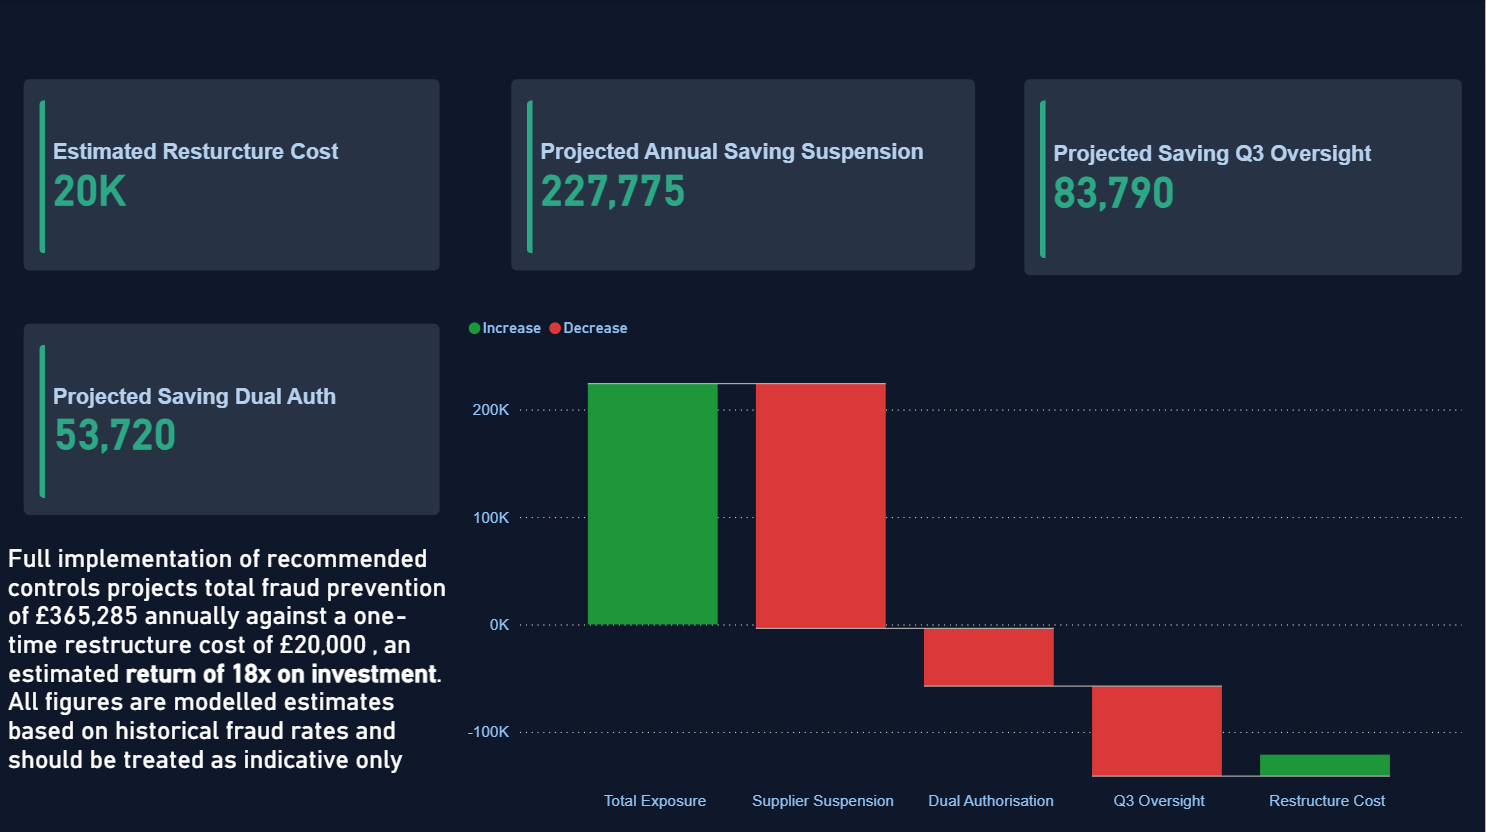

The page's visual inventory and layout, read from the dashboard file:
{"tool":"powerbi","page":{"name":"Recomendations","canvas":[1280,720],"ordinal":3},"visuals":[{"type":"cardVisual","title":"Total Capital At Risk","fields":{"Data":["employee_limits.Estimated resturcture Cost"]},"box":[1.5,48.5,398.2,204.4],"z":0},{"type":"cardVisual","title":"Total Capital At Risk","fields":{"Data":["employee_limits.Projected Annual Saving Suspension"]},"box":[420.9,48.5,439.1,204.4],"z":1000},{"type":"cardVisual","title":"Total Capital At Risk","fields":{"Data":["employee_limits.Projected Saving Dual Auth"]},"box":[1.5,258.9,398.2,204.4],"z":2000},{"type":"cardVisual","title":"Total Capital At Risk","fields":{"Data":["employee_limits.Projected Saving Q3 Oversight"]},"box":[863.1,48.5,416.4,209],"z":3000},{"type":"waterfallChart","fields":{"Category":["Waterfall Data.Step"],"Y":["Sum(Waterfall Data.Amount)"]},"box":[398.2,262,866.1,443.7],"z":4000},{"type":"textbox","box":[2,463,396,243],"z":5000}]}

Visuals, with their boxes in screenshot pixels (x1, y1, x2, y2), scaled from the page's 1280x720 canvas onto the 1486x832 screenshot:
"Total Capital At Risk" cardVisual: 2/56/464/292
"Total Capital At Risk" cardVisual: 489/56/998/292
"Total Capital At Risk" cardVisual: 2/299/464/535
"Total Capital At Risk" cardVisual: 1002/56/1485/298
waterfallChart - Waterfall Data.Step x Sum(Waterfall Data.Amount): 462/303/1468/815
textbox: 2/535/462/816
